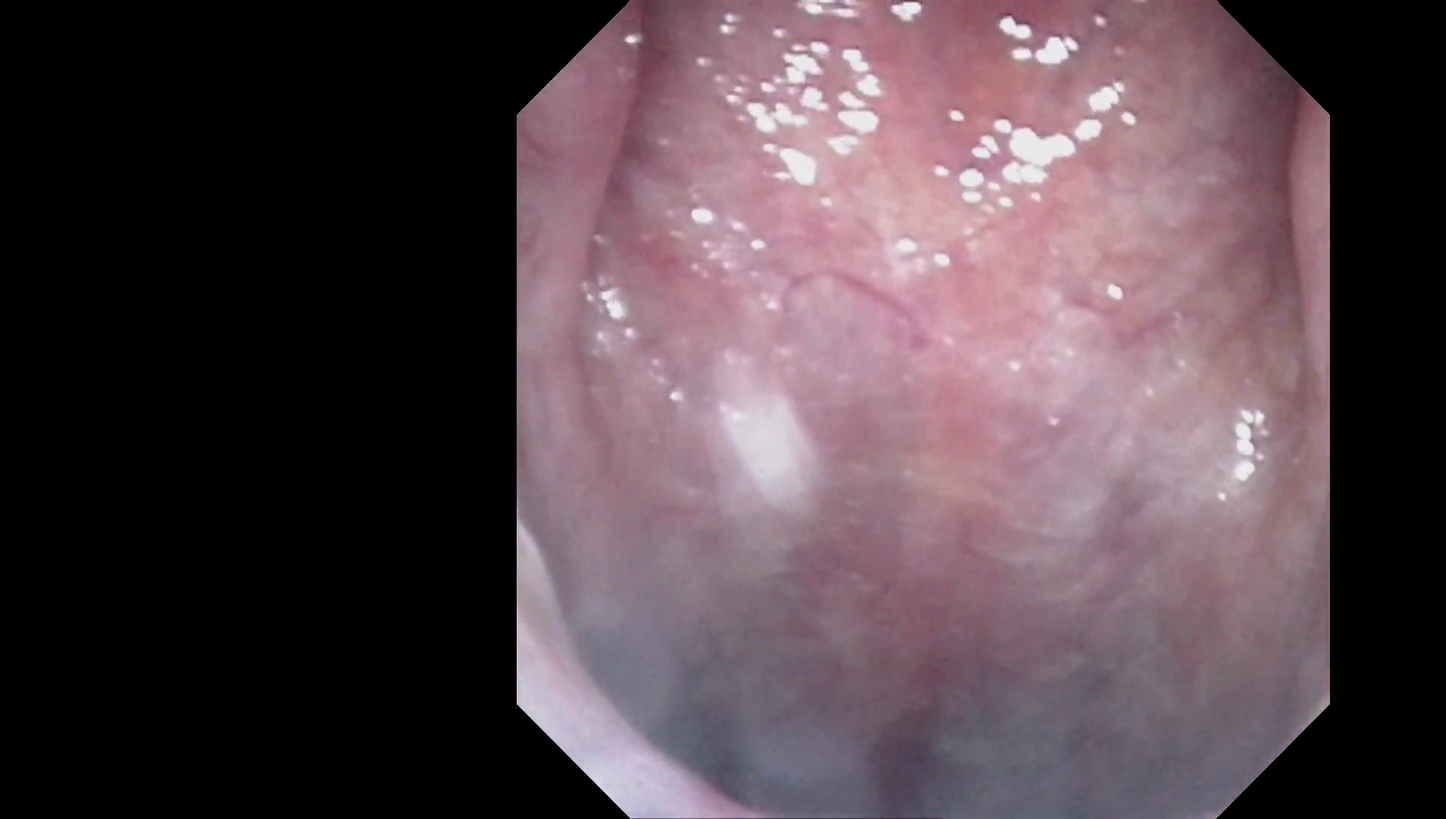next: (590, 629, 1028, 811)
